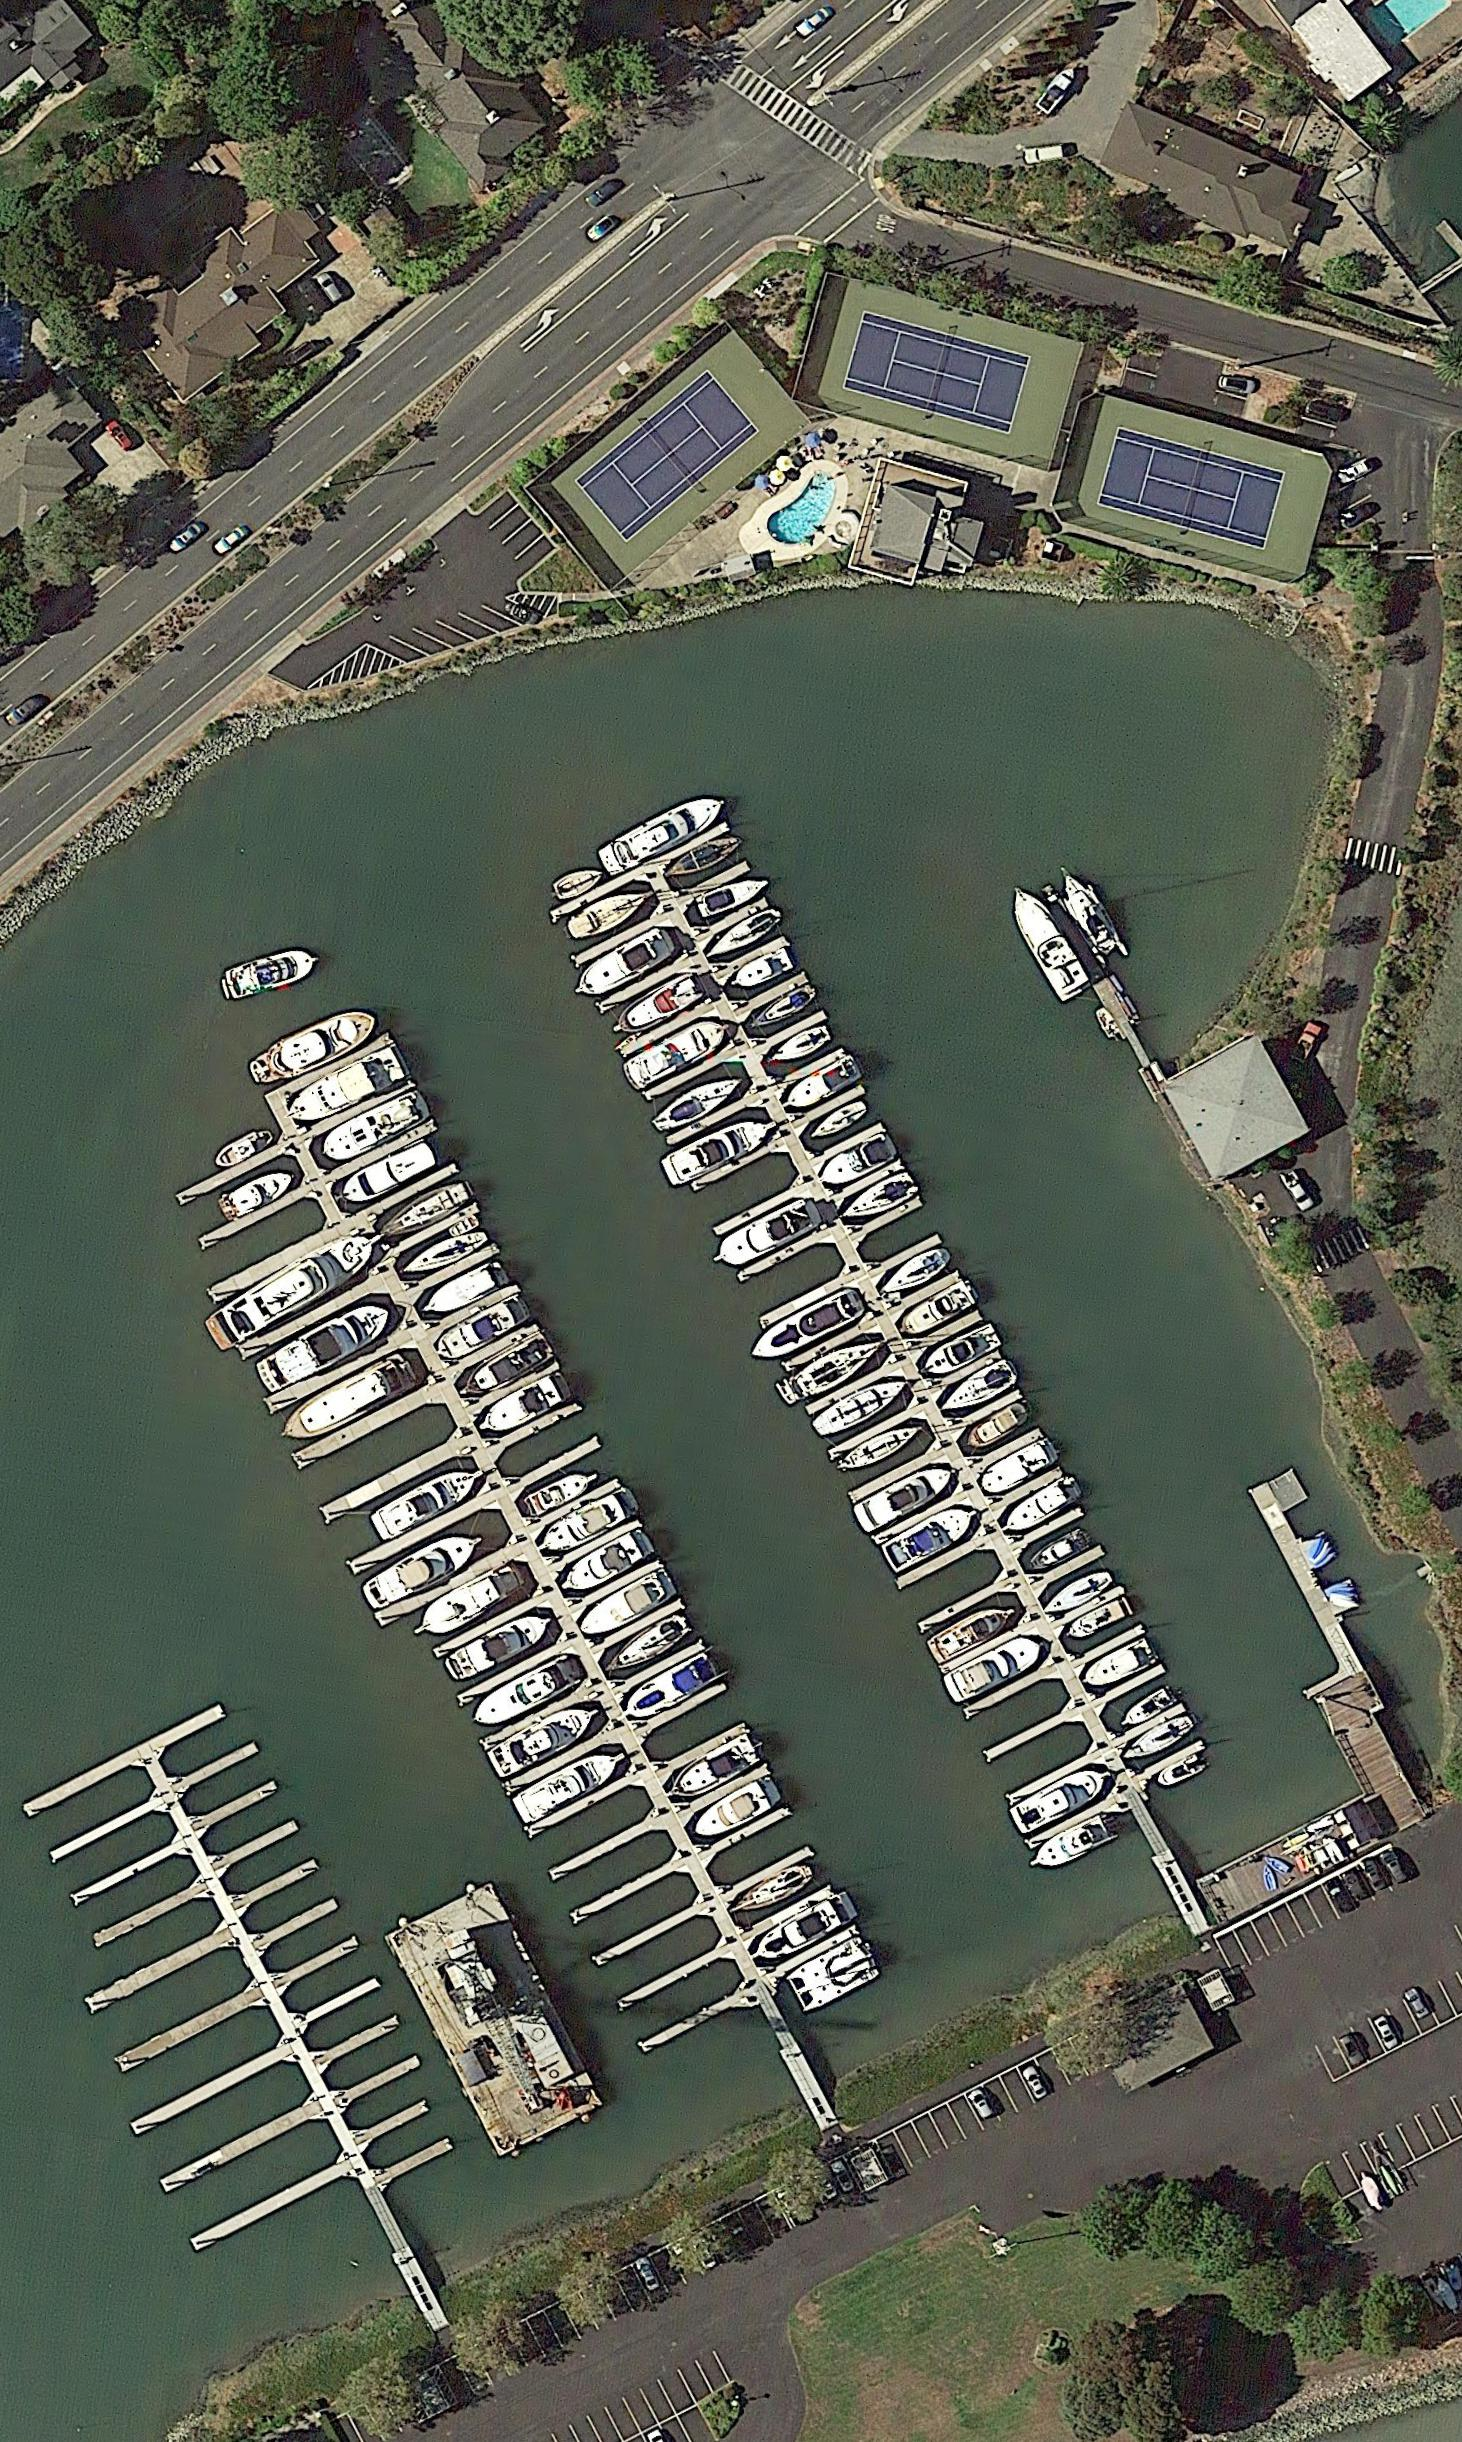harbor: (124, 1024, 903, 2139), (544, 815, 1245, 1933), (3, 1692, 492, 2342), (1219, 1467, 1440, 1794), (1039, 883, 1159, 1067)
ship: (379, 1873, 610, 2165), (202, 1222, 389, 1353), (274, 1349, 419, 1452), (253, 1297, 397, 1396), (595, 788, 732, 882), (244, 1002, 385, 1093), (998, 879, 1093, 1005), (358, 1526, 490, 1615), (744, 1284, 869, 1371), (282, 1046, 407, 1132), (510, 1740, 632, 1828), (406, 1560, 528, 1646), (367, 1460, 490, 1544), (484, 1698, 608, 1781), (661, 1109, 779, 1192), (317, 1086, 433, 1169), (620, 1011, 734, 1094), (440, 1607, 558, 1687), (470, 1654, 585, 1732), (568, 924, 676, 1007), (710, 1196, 821, 1276), (752, 1886, 860, 1967), (532, 1485, 641, 1564), (1009, 1760, 1118, 1837), (787, 1328, 893, 1407), (853, 1458, 959, 1537), (941, 1629, 1049, 1706), (880, 1498, 984, 1577), (617, 1650, 722, 1728), (784, 1935, 880, 2018), (659, 1731, 761, 1809), (573, 1569, 677, 1644), (336, 1138, 441, 1212), (810, 1368, 911, 1444), (648, 1067, 751, 1140), (1051, 861, 1125, 962), (609, 970, 707, 1046), (557, 1526, 656, 1601), (432, 1293, 531, 1367), (375, 1174, 475, 1247), (457, 1331, 556, 1404), (687, 1774, 784, 1845), (474, 1371, 573, 1439), (926, 1597, 1020, 1667), (219, 942, 321, 1004), (835, 1415, 928, 1483), (566, 880, 661, 946), (600, 1612, 692, 1680), (933, 1355, 1021, 1423), (1023, 1812, 1113, 1878), (400, 1221, 490, 1286), (999, 1473, 1085, 1541), (727, 1859, 818, 1923), (974, 1435, 1062, 1501), (420, 1259, 510, 1321), (873, 1242, 957, 1305), (700, 905, 786, 966), (837, 1169, 920, 1232), (815, 1130, 898, 1193), (780, 1053, 863, 1116), (895, 1278, 976, 1341), (920, 1320, 1001, 1381), (217, 1164, 298, 1224), (524, 1463, 607, 1520), (660, 830, 744, 886), (1118, 1710, 1197, 1767), (694, 867, 774, 922), (1039, 1568, 1116, 1624), (1081, 1638, 1156, 1693), (746, 981, 820, 1034), (963, 1401, 1032, 1456), (766, 1020, 834, 1072), (1024, 1528, 1091, 1577), (209, 1124, 275, 1173), (1067, 1596, 1133, 1644), (806, 1097, 870, 1146), (729, 946, 794, 994), (1029, 63, 1083, 120), (552, 861, 608, 906), (1116, 1688, 1174, 1731), (1154, 1754, 1204, 1790), (1090, 1002, 1129, 1043), (1432, 2272, 1460, 2316), (1262, 1853, 1292, 1876), (1261, 1863, 1277, 1892)
